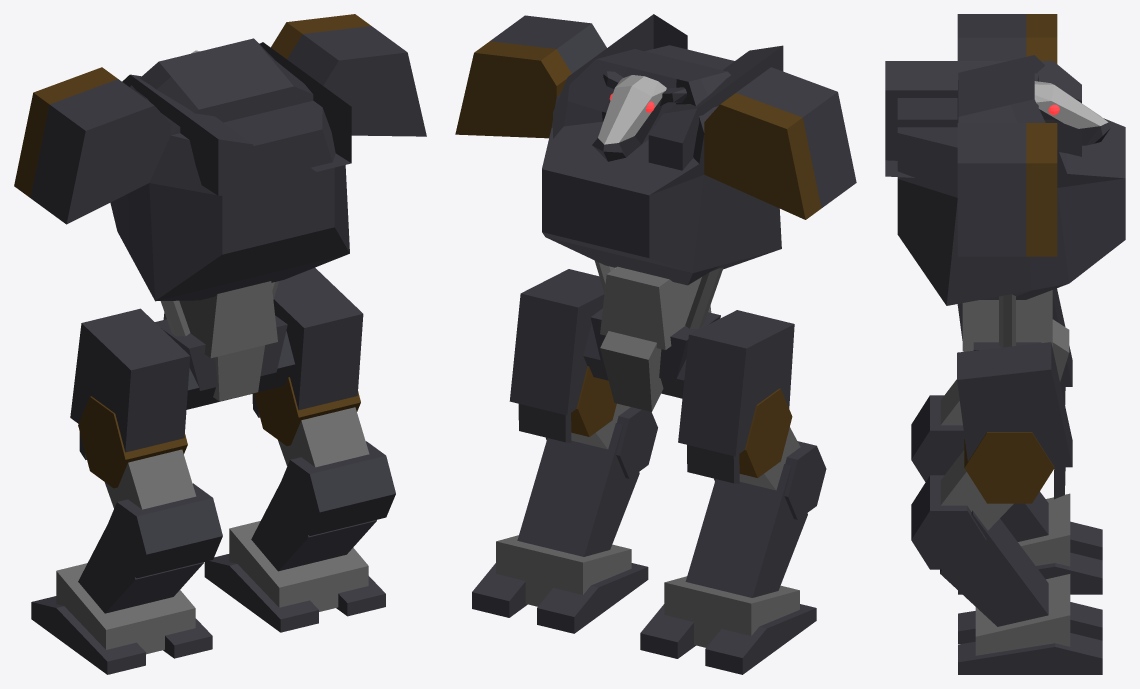
The model's file is Cowtomaton.fbx.
The picture shows the model from 3 angles, left to right: view 1: azimuth 30°, elevation 25°; view 2: azimuth 150°, elevation 25°; view 3: azimuth 270°, elevation 25°; orthographic projection. The views are drawn at different scales.
Visible parts, largest first — view 1: Cowtomaton; view 2: Cowtomaton; view 3: Cowtomaton.
Boxes of the visible parts, x1,y1,x2,y2 form: Cowtomaton: (14, 14, 426, 674); Cowtomaton: (455, 14, 856, 674); Cowtomaton: (885, 14, 1125, 674).
Size of the model in its own units: 416 by 620 by 253.
